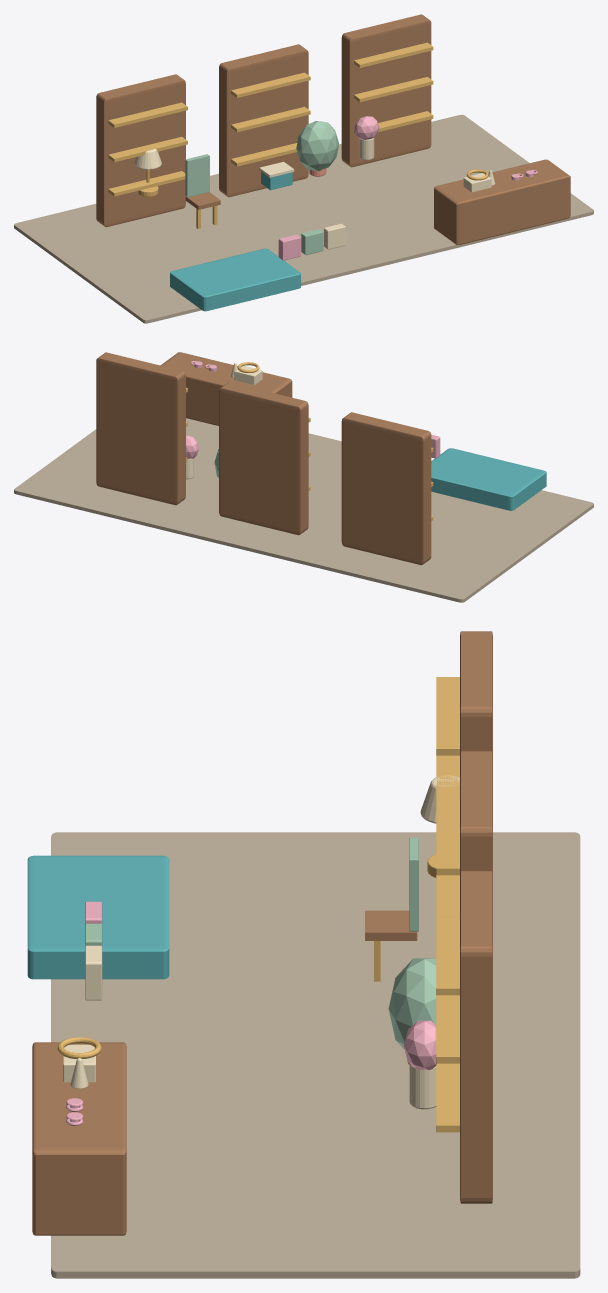
Rendered from home_nook.glb.
The picture shows the model from 3 angles, top to bottom: view 1: azimuth 30°, elevation 25°; view 2: azimuth 150°, elevation 25°; view 3: azimuth 270°, elevation 25°; orthographic projection. The views are drawn at different scales.
Visible parts, largest first — view 1: Home_Floor_Inset, Home_Shelf_23, Home_Shelf_17, Home_Shelf_20, Home_Display_Table, Home_Chair_Plinth, Plant_Leaves, Folding_Chair_Back, Home_Shelf_Board_17_2.6, Home_Shelf_Board_20_1.8, Home_Shelf_Board_20_2.6, Home_Shelf_Board_23_1.8 (+12 smaller); view 2: Home_Floor_Inset, Home_Shelf_17, Home_Shelf_23, Home_Shelf_20, Home_Chair_Plinth, Home_Display_Table, Kettle_Body; view 3: Home_Floor_Inset, Home_Chair_Plinth, Home_Display_Table, Home_Shelf_23, Home_Shelf_17, Home_Shelf_20, Plant_Leaves, Home_Shelf_Board_23_2.6, Home_Shelf_Board_17_2.6, Home_Shelf_Board_20_2.6, Home_Shelf_Board_23_1, Home_Shelf_Board_23_1.8 (+7 smaller).
Boxes of the visible parts, x1=… form: Home_Floor_Inset: x1=14, y1=114, x2=593, y2=323; Home_Shelf_23: x1=341, y1=14, x2=431, y2=167; Home_Shelf_17: x1=96, y1=74, x2=185, y2=227; Home_Shelf_20: x1=219, y1=44, x2=308, y2=197; Home_Display_Table: x1=434, y1=159, x2=570, y2=244; Home_Chair_Plinth: x1=170, y1=248, x2=300, y2=311; Plant_Leaves: x1=296, y1=121, x2=338, y2=171; Folding_Chair_Back: x1=185, y1=154, x2=209, y2=197; Home_Shelf_Board_17_2.6: x1=108, y1=102, x2=187, y2=127; Home_Shelf_Board_20_1.8: x1=231, y1=106, x2=310, y2=132; Home_Shelf_Board_20_2.6: x1=231, y1=72, x2=310, y2=97; Home_Shelf_Board_23_1.8: x1=354, y1=77, x2=433, y2=102; Home_Floor_Inset: x1=14, y1=418, x2=593, y2=602; Home_Shelf_17: x1=341, y1=412, x2=431, y2=565; Home_Shelf_23: x1=96, y1=352, x2=185, y2=505; Home_Shelf_20: x1=219, y1=382, x2=308, y2=535; Home_Chair_Plinth: x1=431, y1=448, x2=546, y2=510; Home_Display_Table: x1=160, y1=352, x2=292, y2=425; Kettle_Body: x1=234, y1=366, x2=262, y2=384; Home_Floor_Inset: x1=51, y1=832, x2=580, y2=1278; Home_Chair_Plinth: x1=27, y1=855, x2=169, y2=979; Home_Display_Table: x1=32, y1=1042, x2=126, y2=1235; Home_Shelf_23: x1=460, y1=871, x2=492, y2=1203; Home_Shelf_17: x1=460, y1=631, x2=492, y2=754; Home_Shelf_20: x1=460, y1=751, x2=492, y2=874; Plant_Leaves: x1=388, y1=958, x2=436, y2=1049; Home_Shelf_Board_23_2.6: x1=436, y1=916, x2=459, y2=995; Home_Shelf_Board_17_2.6: x1=436, y1=677, x2=459, y2=755; Home_Shelf_Board_20_2.6: x1=436, y1=797, x2=459, y2=875; Home_Shelf_Board_23_1: x1=436, y1=1063, x2=459, y2=1132; Home_Shelf_Board_23_1.8: x1=436, y1=995, x2=459, y2=1063.
Bounding box in the file's own units: 11 × 3.15 × 5.85.
